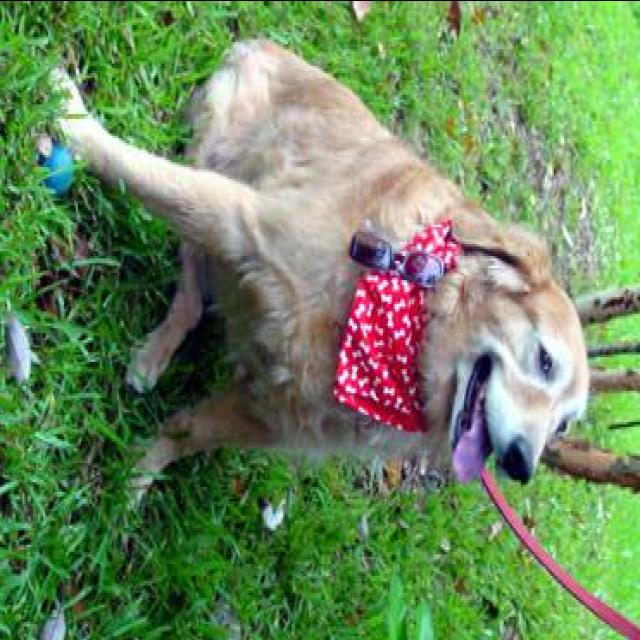dog: (40, 6, 592, 508)
